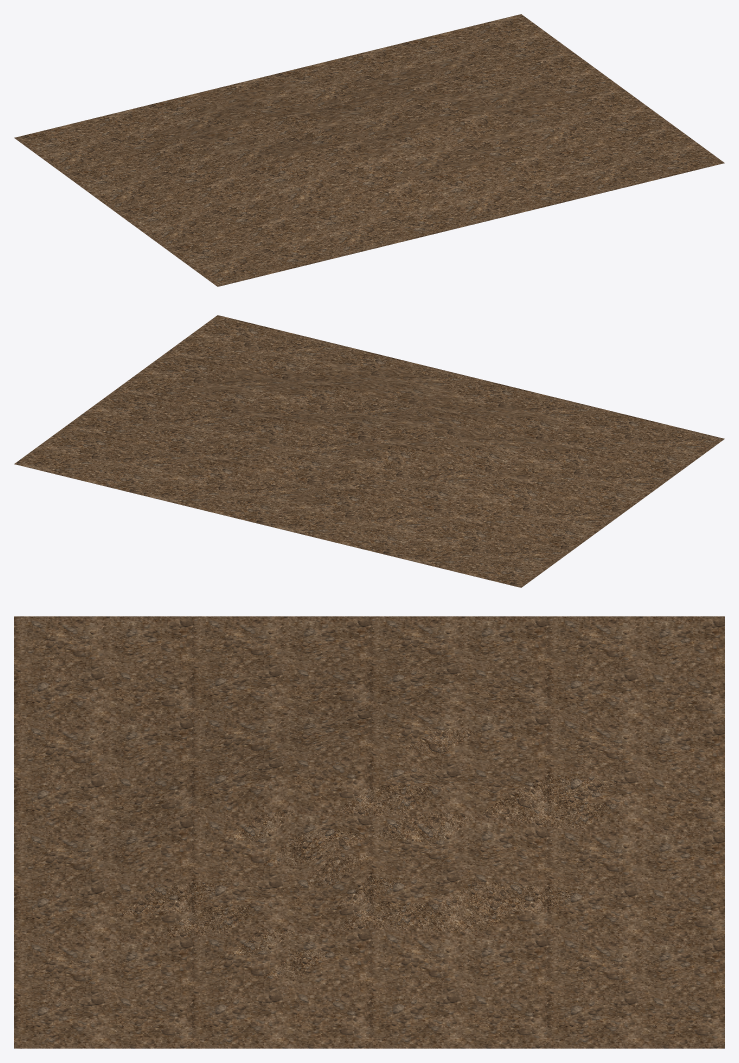
The model's file is Soil Pile.fbx.
3 renders of one model, top to bottom at view 1: azimuth 30°, elevation 25°; view 2: azimuth 150°, elevation 25°; view 3: azimuth 270°, elevation 25°, orthographic. The views are drawn at different scales.
Parts seen in each view (by area): view 1: Landscape; view 2: Landscape; view 3: Landscape.
Boxes of the visible parts, box(x1,y1,x2,y2) form: Landscape: box(14, 14, 724, 286); Landscape: box(14, 315, 724, 587); Landscape: box(14, 616, 724, 1048).
Size of the model in its own units: 751 by 21.52 by 522.
Materials: 1 (1 with a texture image).
